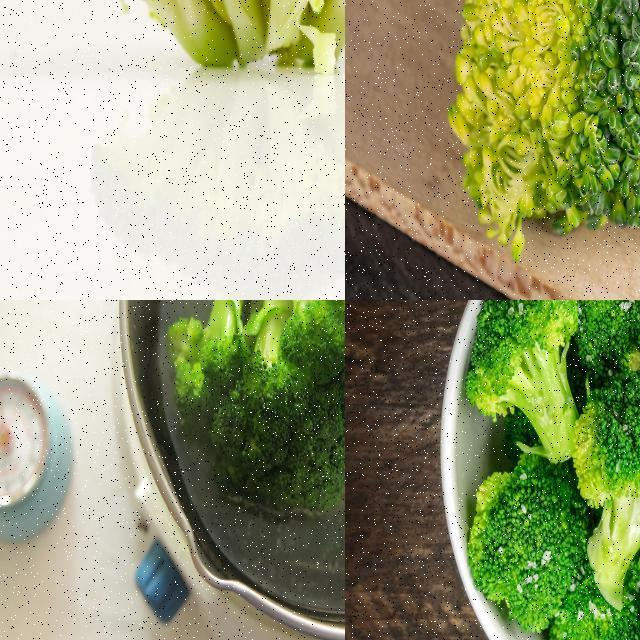broccoli: (444, 0, 639, 280), (169, 300, 344, 519), (80, 0, 344, 92), (471, 452, 594, 626), (463, 300, 585, 468), (570, 368, 639, 610)
